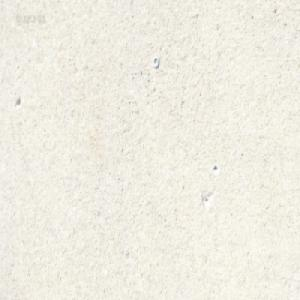Washer: (152, 55, 159, 68)
